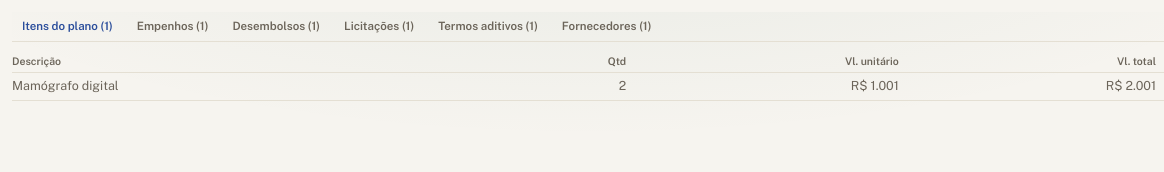
Test case: coleções oficiais do SICONV em celular e desktop › apresenta Empenhos sem misturar repasse e pagamento ao fornecedor
This screenshot has width=1164, height=172.
Click the button "Empenhos (1)" at (173, 27), box [127,12,218,41]
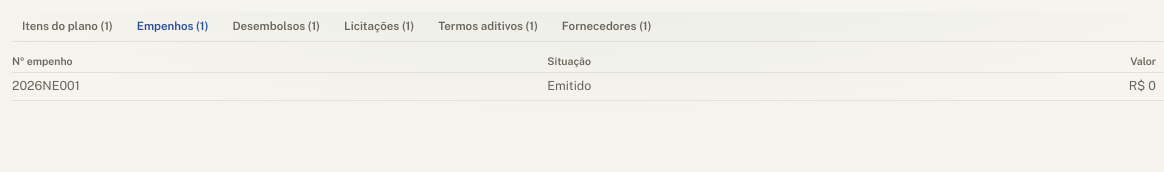
Check: the text "2026NE001" is shown, box [12,72,547,100]
